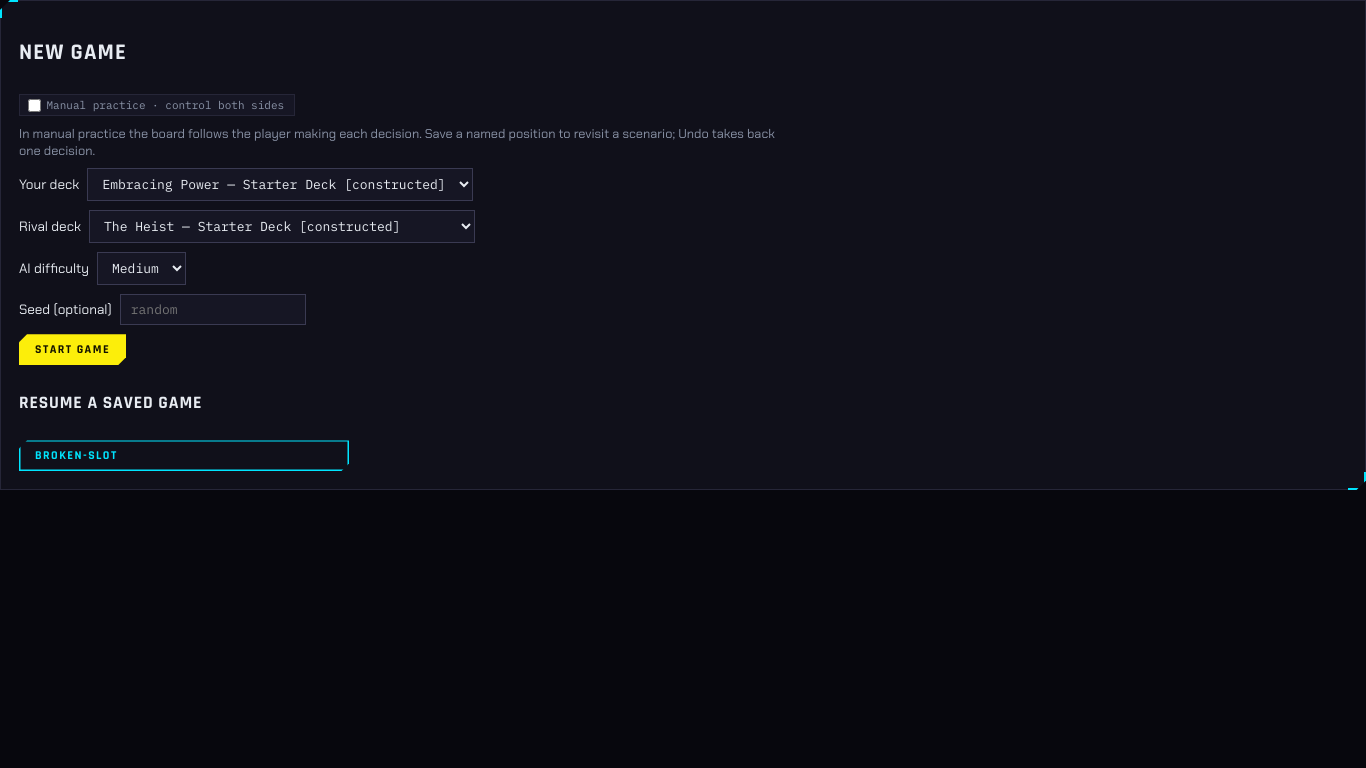
PlayView resume error handling › surfaces a visible error instead of crashing when a saved game no longer replays
Note: Must not throw out of the click handler.
Click the button with test id "resume-game" at (76, 456), box 19,440 -> 349,471
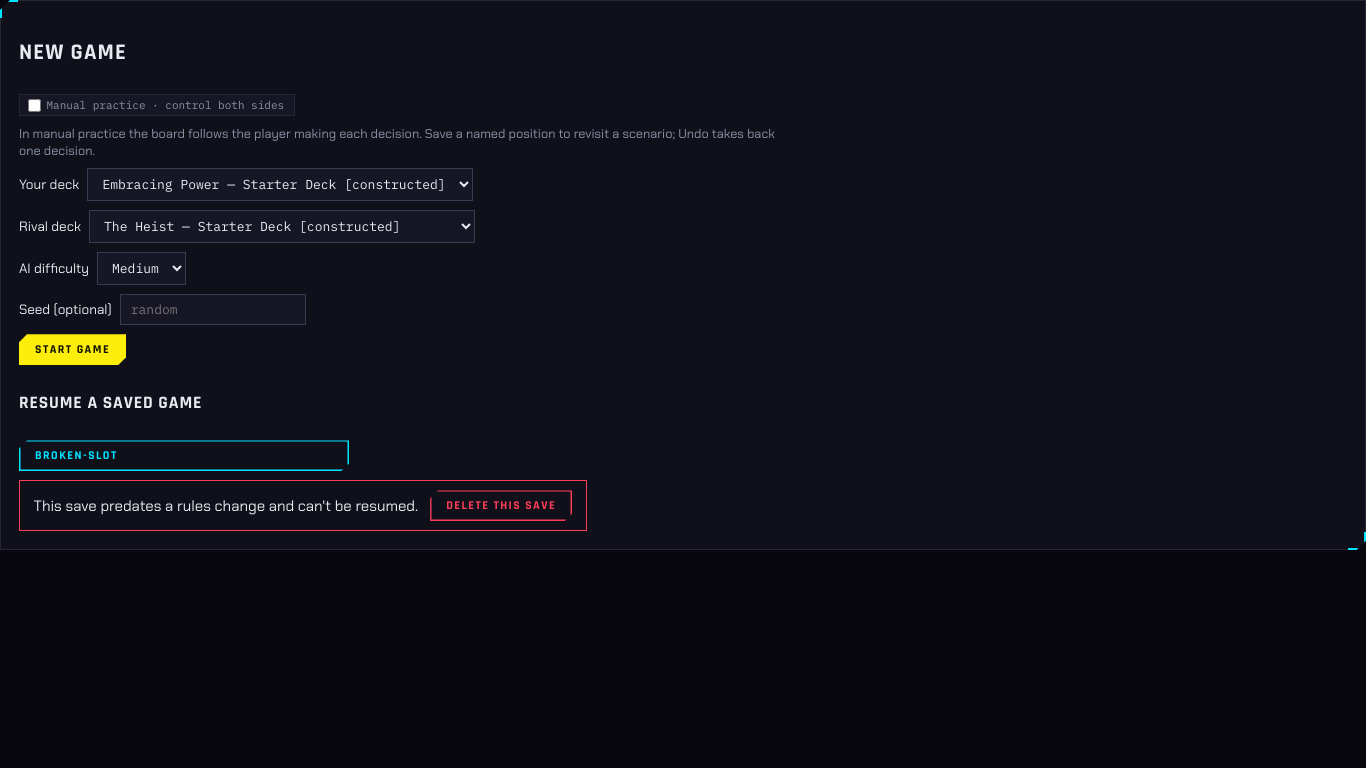
Expected: the message with test id "resume-error" shows "This save predates a rules change and can't be resumed.", 34,496 -> 418,516
Expected: the button with test id "delete-broken-save" is shown, 430,490 -> 572,521
